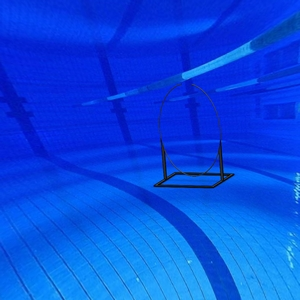circle: (153, 82, 236, 191)
